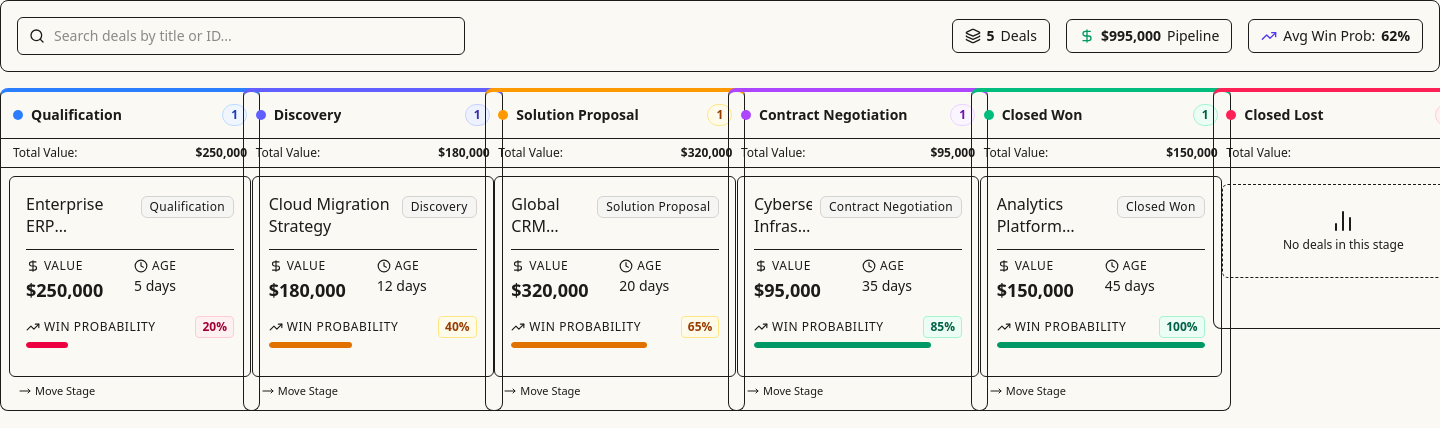
Scenario: Board Component [FR-001, FR-003, NFR-001] › Search & Filtering › filters deals by search query
In the field with test id "board-search-input": (241, 36) [17,17,465,55], type "Enterprise"
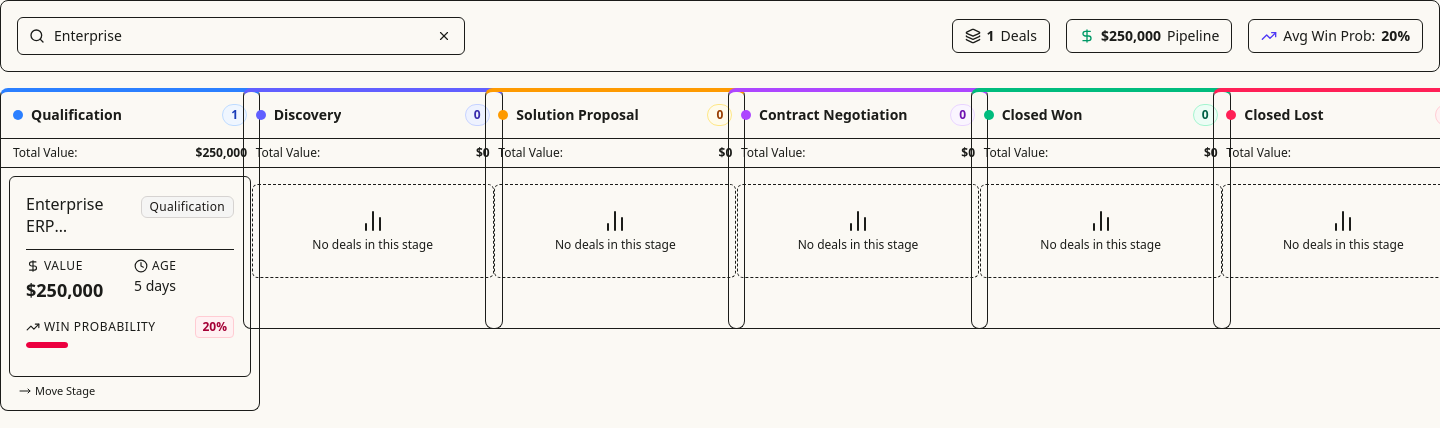
Expected: the heading "Enterprise ERP Modernization" is shown, [26,193,133,237]
Expected: the element with test id "board-summary-deals" shows "1", [987,26,995,45]
Expected: the heading "Cloud Migration Strategy" is gone
